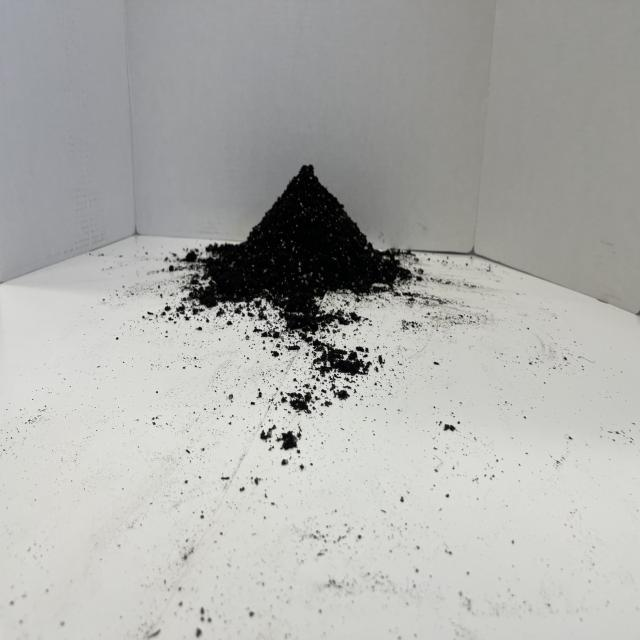soil: (180, 160, 414, 318)
